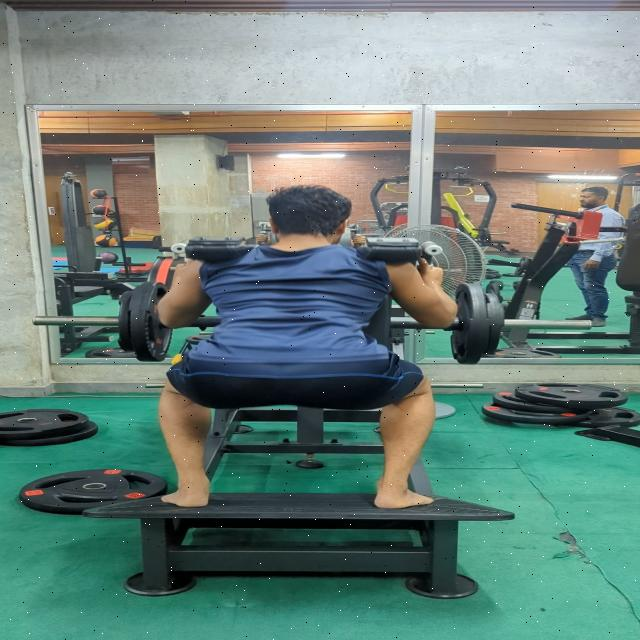Normal_SquatsWithBarbell: (109, 148, 466, 558)
